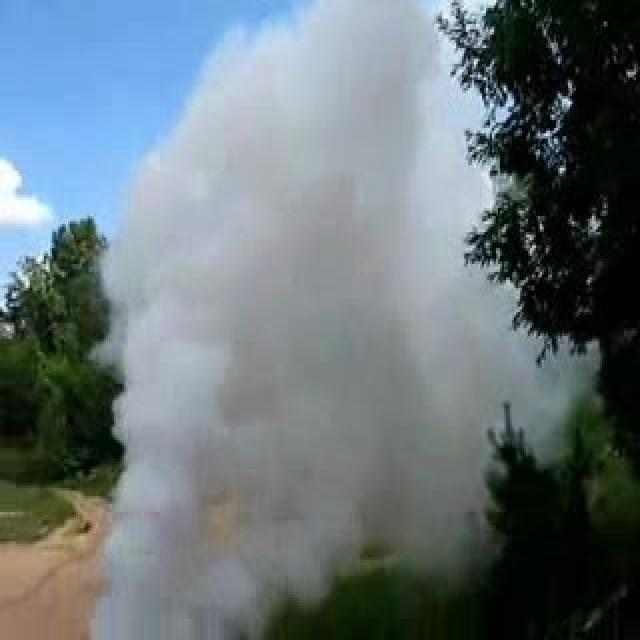Smoke: (84, 0, 604, 640)
